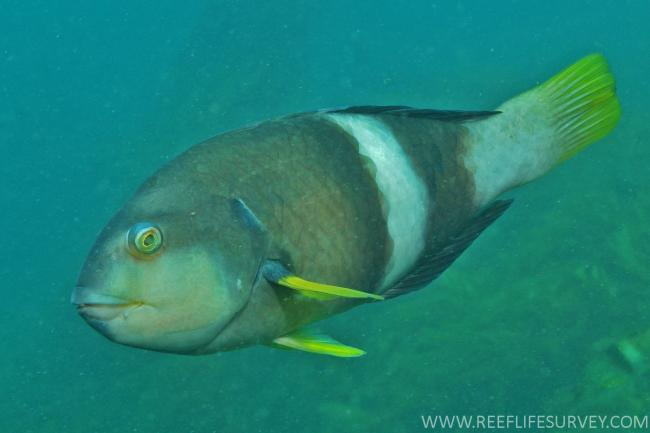fish: (72, 53, 621, 359)
